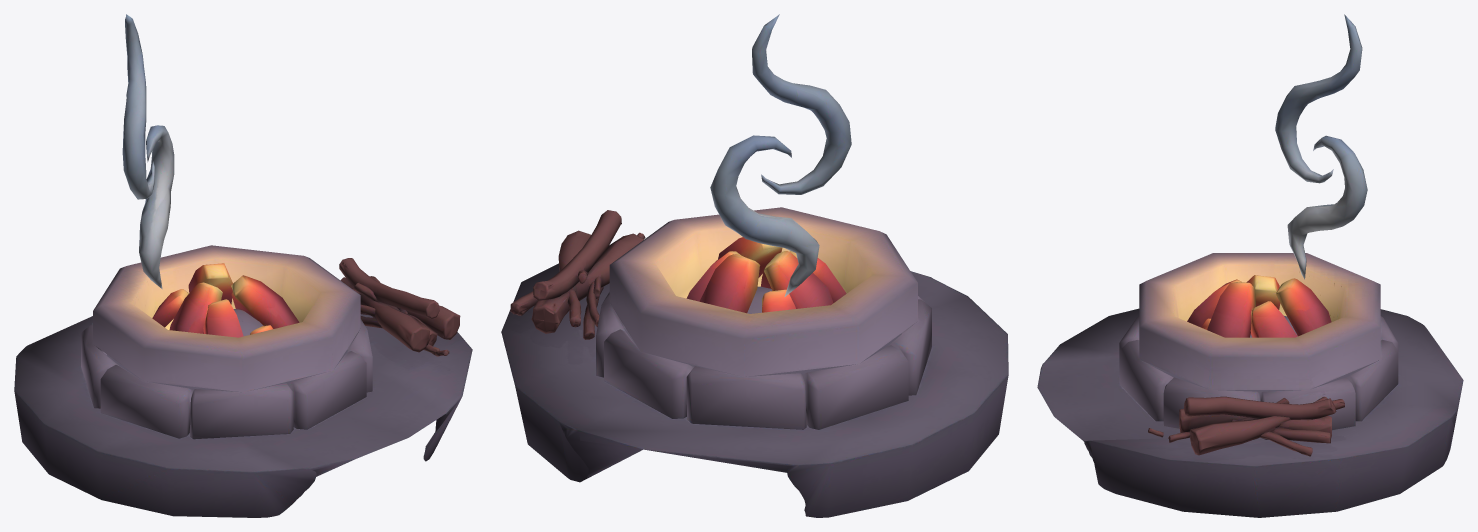
File: fire_nourish_t1.glb
The picture shows the model from 3 angles, left to right: view 1: azimuth 30°, elevation 25°; view 2: azimuth 150°, elevation 25°; view 3: azimuth 270°, elevation 25°; orthographic projection. The views are drawn at different scales.
Parts seen in each view (by area): view 1: tripo_node_8ea08e3e-2b44-4737-a434-9cd0e8f0c9b9; view 2: tripo_node_8ea08e3e-2b44-4737-a434-9cd0e8f0c9b9; view 3: tripo_node_8ea08e3e-2b44-4737-a434-9cd0e8f0c9b9.
Boxes of the visible parts, x1,y1,x2,y2 form: tripo_node_8ea08e3e-2b44-4737-a434-9cd0e8f0c9b9: [14, 14, 472, 517]; tripo_node_8ea08e3e-2b44-4737-a434-9cd0e8f0c9b9: [501, 14, 1008, 517]; tripo_node_8ea08e3e-2b44-4737-a434-9cd0e8f0c9b9: [1037, 14, 1463, 517].
Bounding box in the file's own units: 0.998 × 0.9629 × 0.9551.
Materials: 1 (1 with a texture image).
